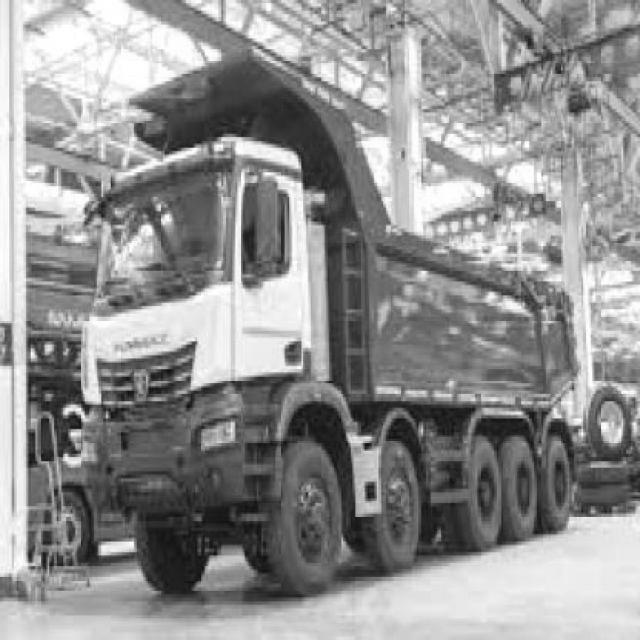Truck- Multi-Axle: (80, 42, 582, 600)
